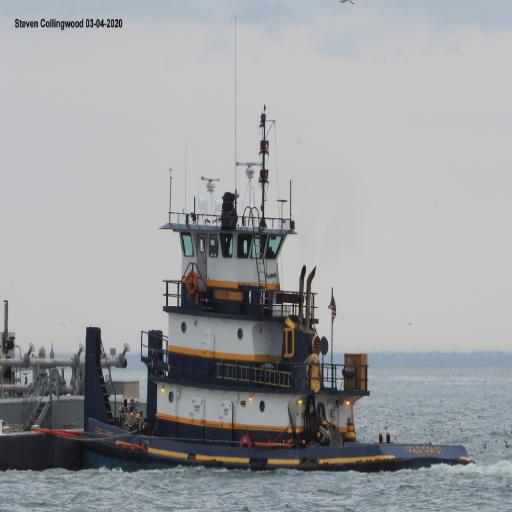tugboat: (82, 100, 480, 486)
